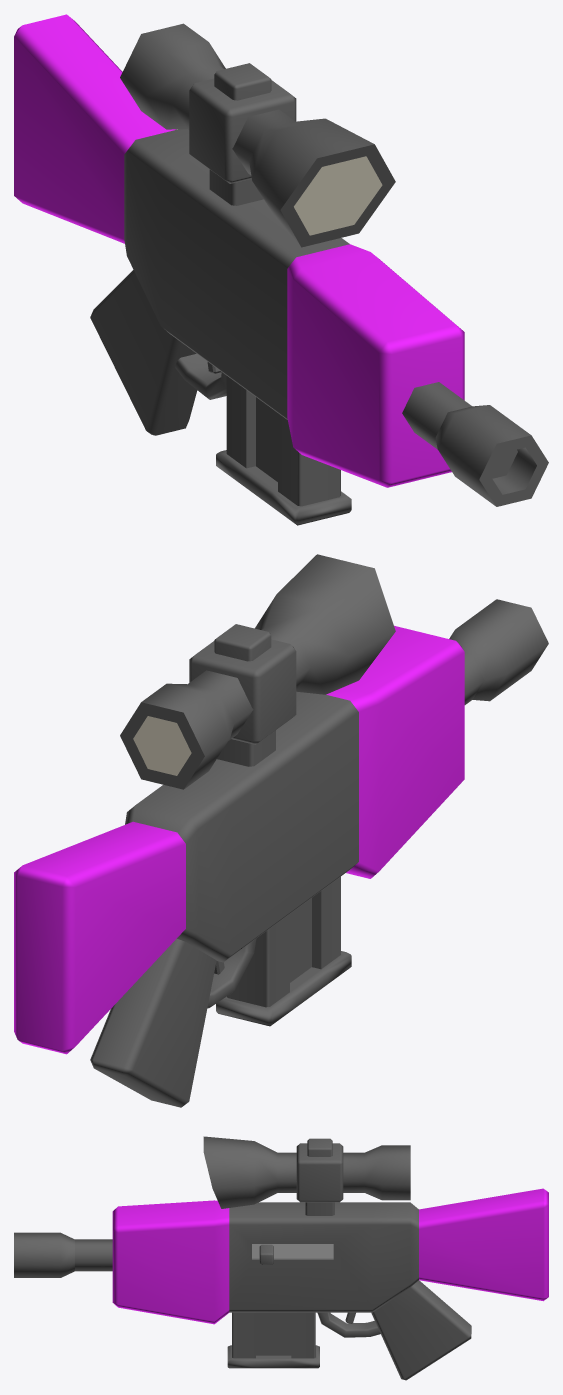
Rendered from COL_Sniper.fbx.
3 renders of one model, top to bottom at view 1: azimuth 30°, elevation 25°; view 2: azimuth 150°, elevation 25°; view 3: azimuth 270°, elevation 25°, orthographic. The views are drawn at different scales.
Visible parts, largest first — view 1: COL_Sniper; view 2: COL_Sniper; view 3: COL_Sniper.
Part boxes in pixels (x1,y1,x2,y2): COL_Sniper: (14, 14, 548, 525); COL_Sniper: (14, 554, 548, 1107); COL_Sniper: (14, 1136, 548, 1380).
Bounding box in the file's own units: 20.91 × 67.61 × 141.
